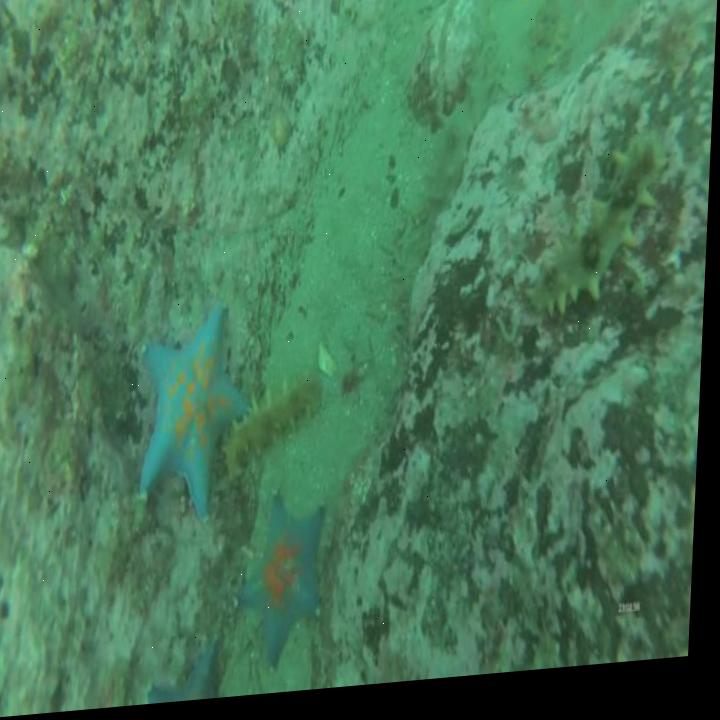holothurian: (536, 146, 669, 326), (229, 378, 323, 484), (432, 81, 493, 213)
starfish: (138, 307, 252, 523), (246, 497, 331, 669)
